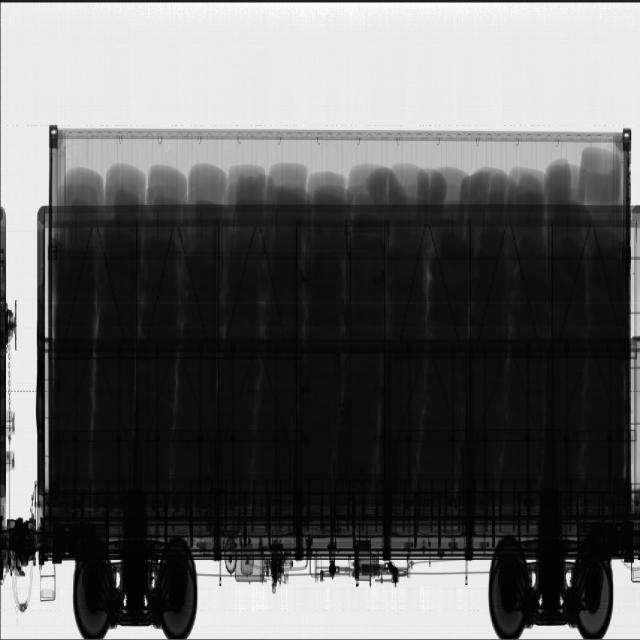clothes: (71, 123, 595, 458)
